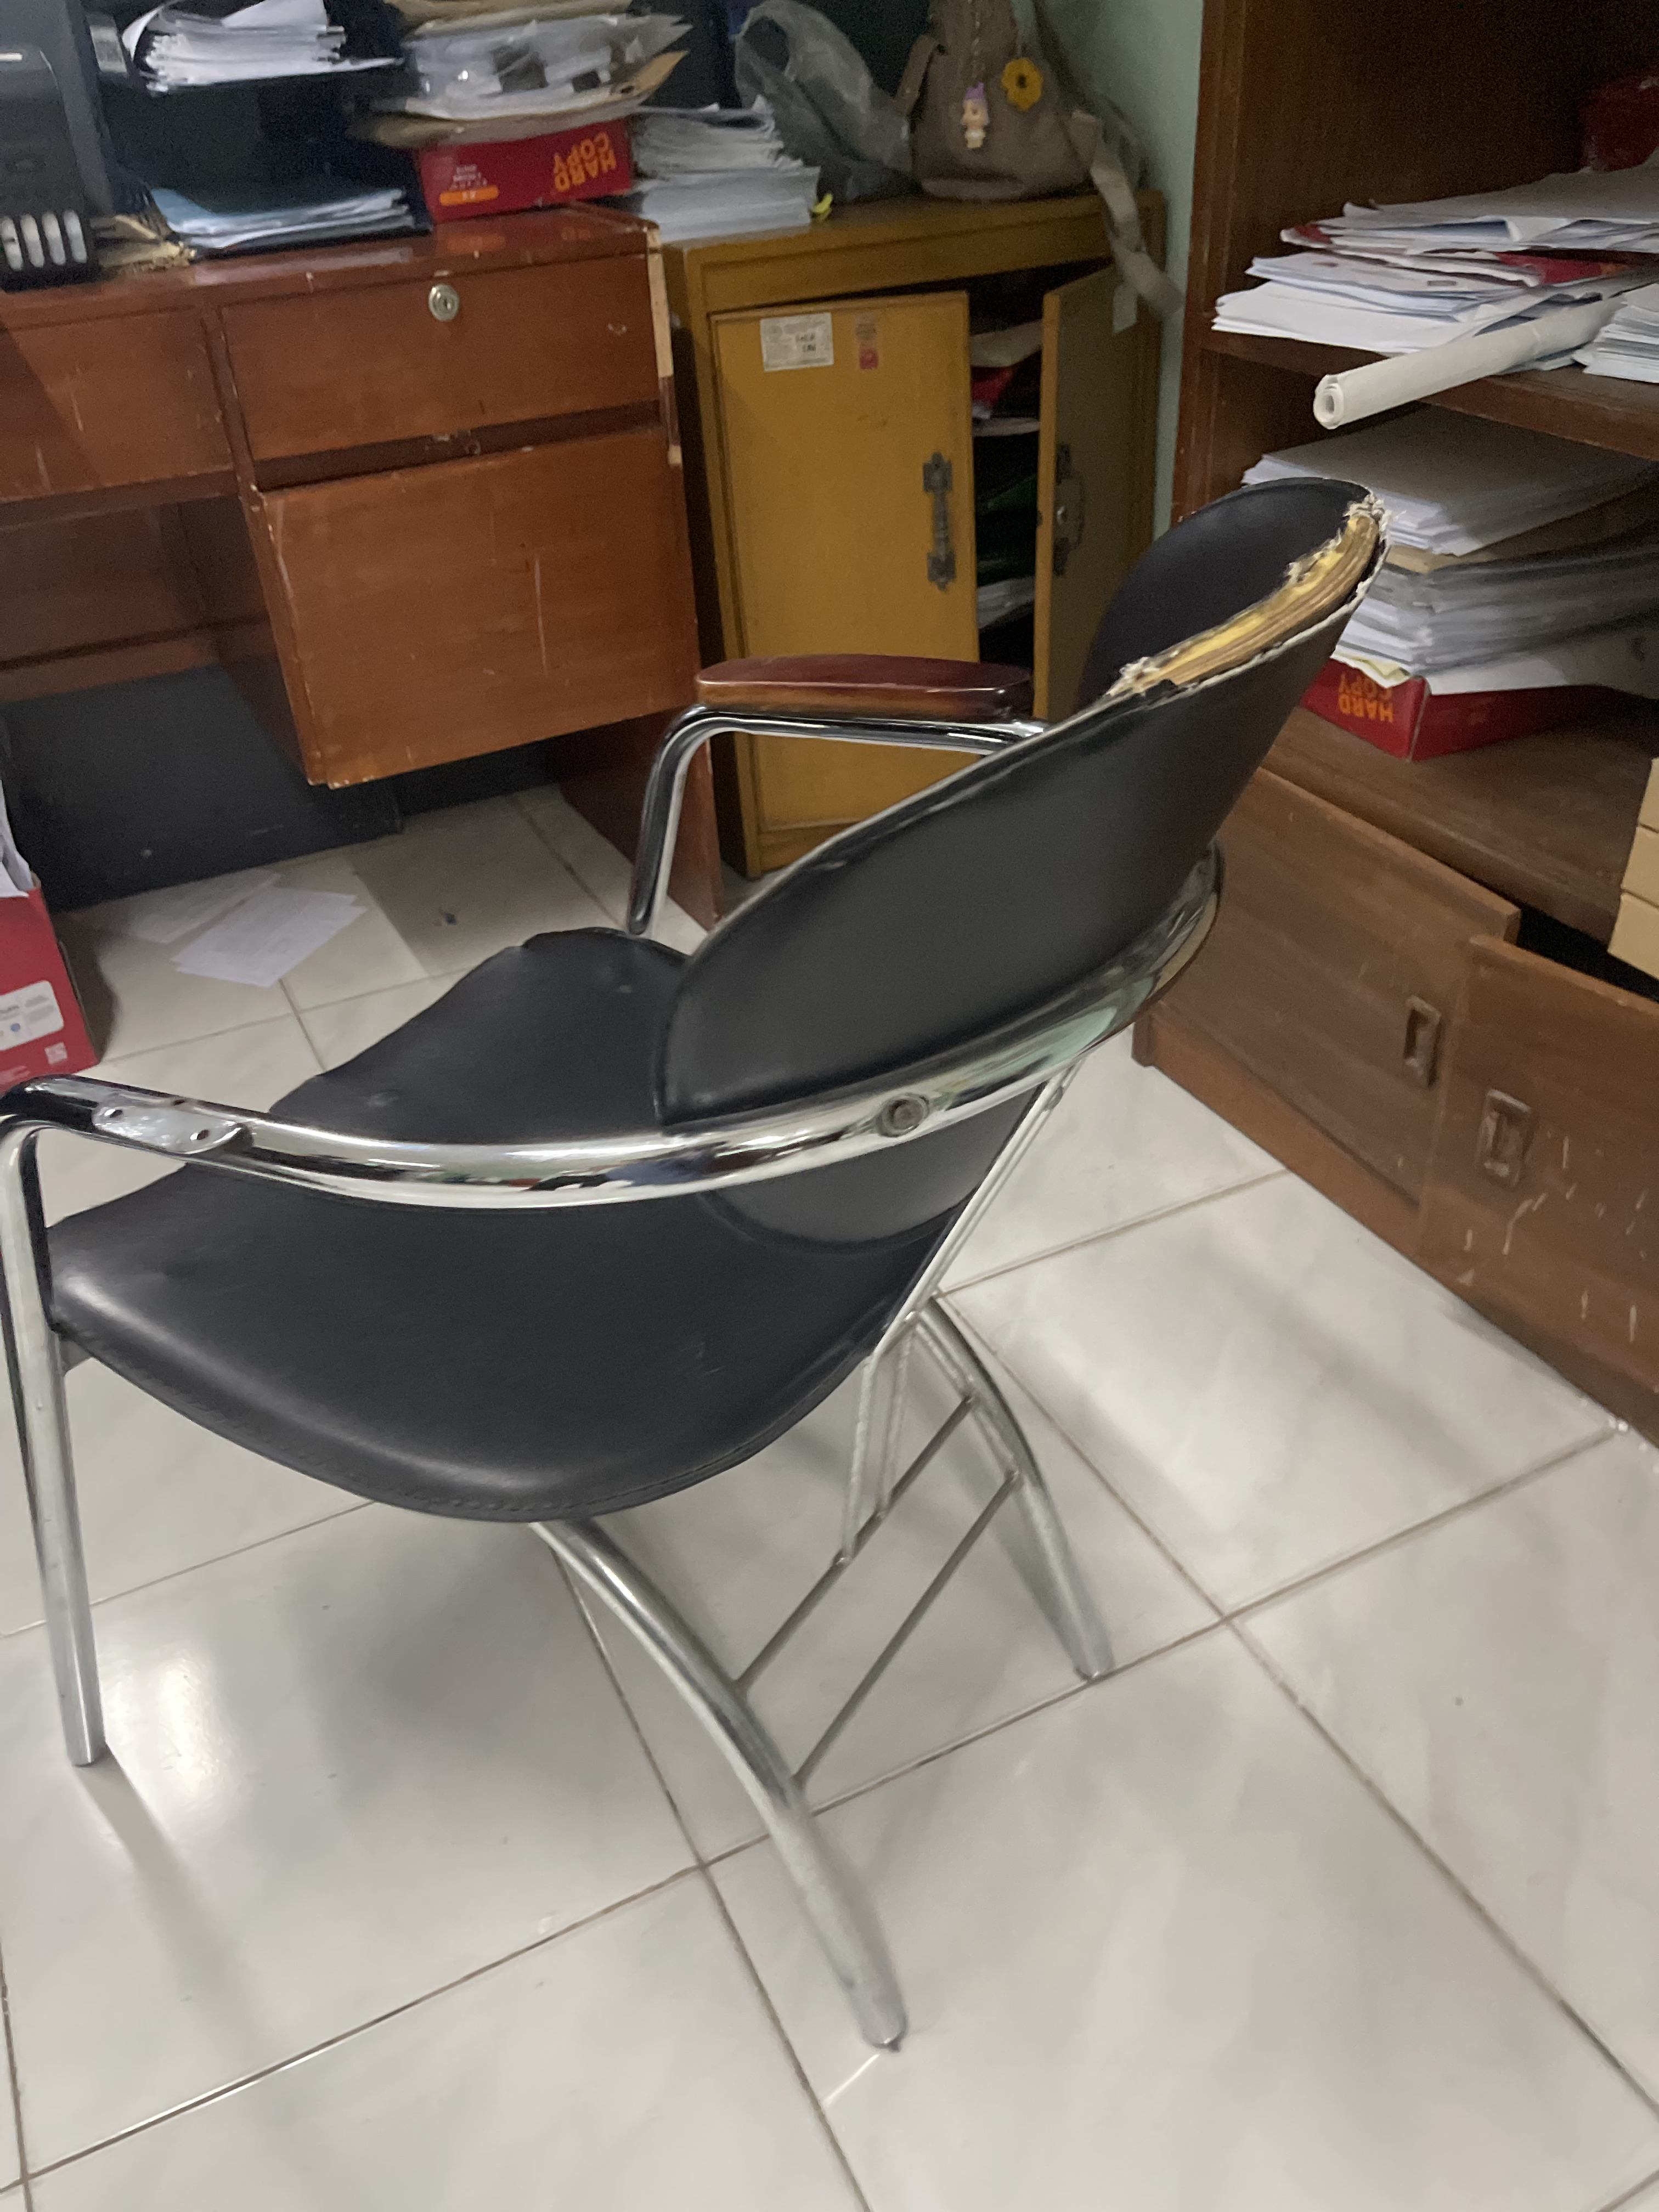chair1: (10, 472, 1394, 2073)
